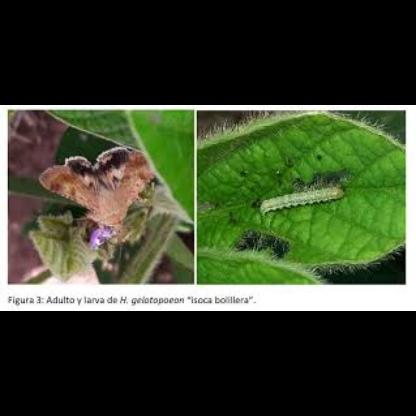oruga: (254, 188, 352, 214)
